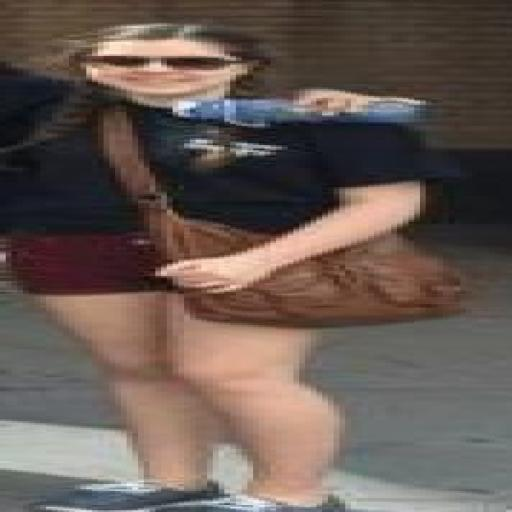person: (6, 23, 442, 511)
